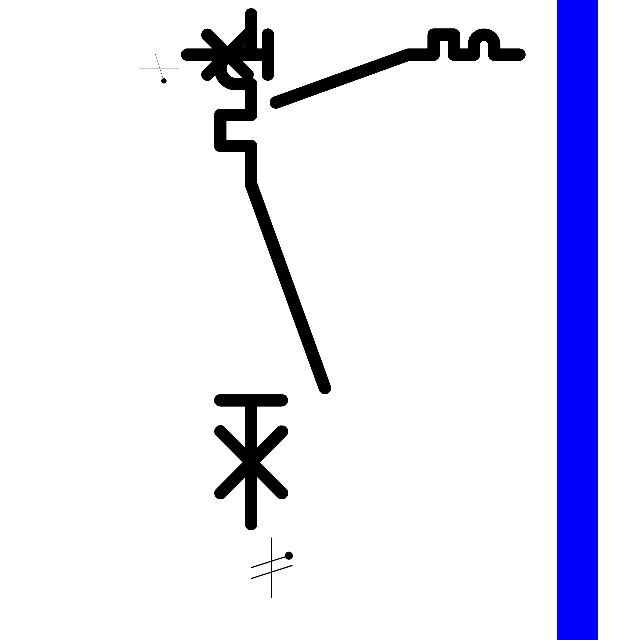interruptor_termomagnetico: (207, 1, 338, 537), (178, 26, 528, 111)
